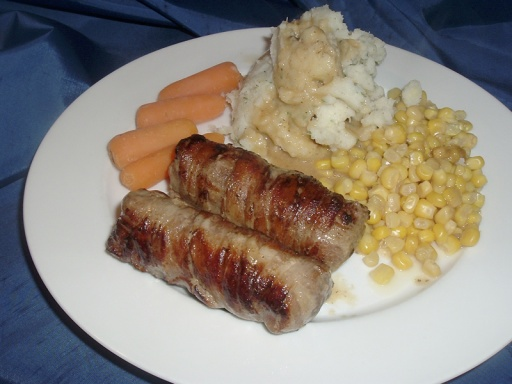background: (83, 1, 390, 201)
